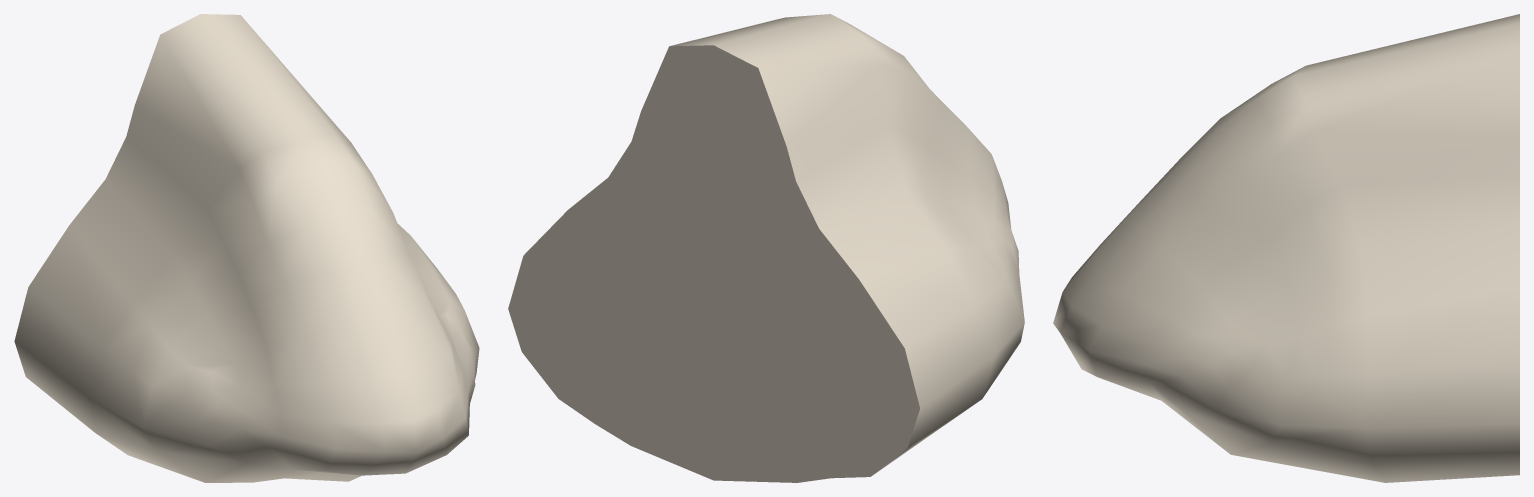
Rendered from nose.fbx.
The picture shows the model from 3 angles, left to right: view 1: azimuth 30°, elevation 25°; view 2: azimuth 150°, elevation 25°; view 3: azimuth 270°, elevation 25°; orthographic projection. The views are drawn at different scales.
Visible parts, largest first — view 1: polySurface1; view 2: polySurface1; view 3: polySurface1.
Boxes of the visible parts, x1=… form: polySurface1: x1=14, y1=14, x2=479, y2=482; polySurface1: x1=508, y1=14, x2=1024, y2=482; polySurface1: x1=1053, y1=14, x2=1519, y2=482.
Bounding box in the file's own units: 0.5799 × 0.5854 × 0.5886.
